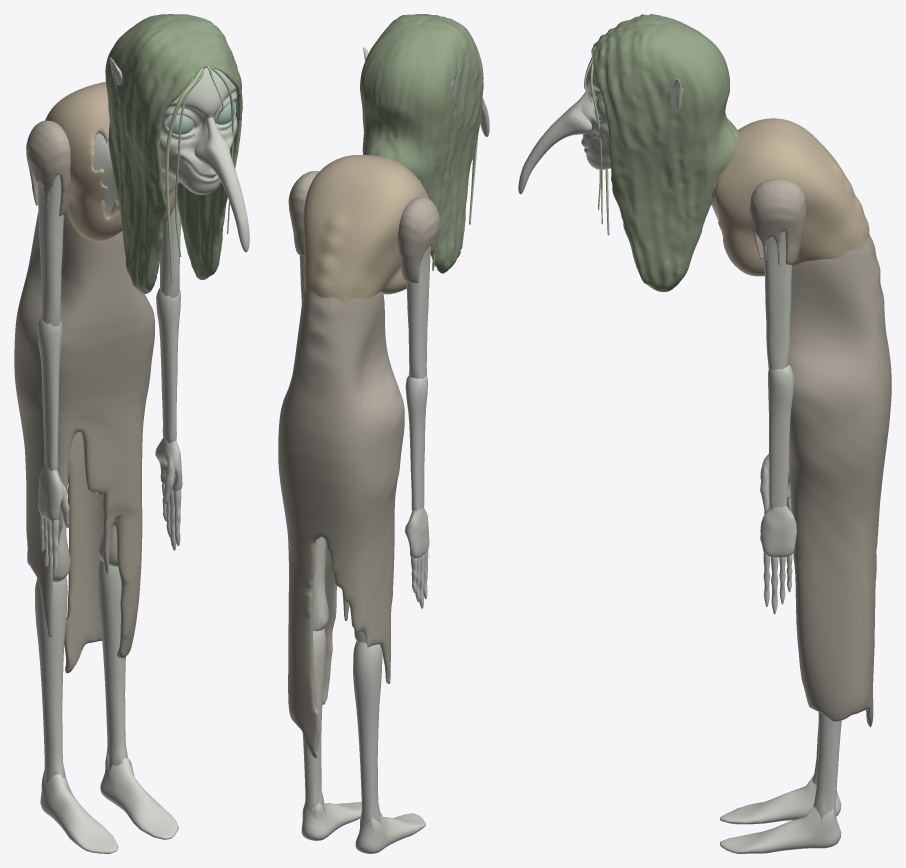
Rendered from Kikimora.glb.
3 renders of one model, left to right at view 1: azimuth 30°, elevation 25°; view 2: azimuth 150°, elevation 25°; view 3: azimuth 270°, elevation 25°, orthographic. The views are drawn at different scales.
Parts seen in each view (by area): view 1: Quad-Kugel 12, Quad-Kugel 1, Quad-Kugel (×6), Quad-Kugel 4 (×2), Quad-Kugel 22, Head, Quad-Kugel 5 (×2), Quad-Kugel 13, Quad-Kugel 6 (×2), Röhre 3, Quad-Kugel 3, Röhre 2; view 2: Quad-Kugel 12, Quad-Kugel 1, Quad-Kugel 22, Quad-Kugel 4 (×2), Quad-Kugel (×3), Quad-Kugel 13 (×2), Quad-Kugel 5, Quad-Kugel 3, Quad-Kugel 6; view 3: Quad-Kugel 12, Quad-Kugel 1, Quad-Kugel 22, Quad-Kugel (×4), Quad-Kugel 13, Quad-Kugel 5, Quad-Kugel 4, Head, Quad-Kugel 6.
Part boxes in pixels (<box>): Quad-Kugel 12: <box>14,210,154,673</box>; Quad-Kugel 1: <box>105,14,242,293</box>; Quad-Kugel (×6): <box>37,117,249,853</box>; Quad-Kugel 4 (×2): <box>35,559,127,787</box>; Quad-Kugel 22: <box>45,81,175,241</box>; Head: <box>109,57,237,194</box>; Quad-Kugel 5 (×2): <box>37,288,180,470</box>; Quad-Kugel 13: <box>26,120,71,216</box>; Quad-Kugel 6 (×2): <box>38,438,182,521</box>; Röhre 3: <box>165,68,203,281</box>; Quad-Kugel 3: <box>53,466,70,581</box>; Röhre 2: <box>175,69,204,256</box>; Quad-Kugel 12: <box>278,286,404,758</box>; Quad-Kugel 1: <box>360,14,483,273</box>; Quad-Kugel 22: <box>303,155,428,302</box>; Quad-Kugel 4 (×2): <box>302,628,382,829</box>; Quad-Kugel (×3): <box>301,246,431,853</box>; Quad-Kugel 13 (×2): <box>288,171,440,283</box>; Quad-Kugel 5: <box>405,375,427,511</box>; Quad-Kugel 3: <box>312,537,328,631</box>; Quad-Kugel 6: <box>404,507,429,558</box>; Quad-Kugel 12: <box>788,234,891,727</box>; Quad-Kugel 1: <box>593,14,740,292</box>; Quad-Kugel 22: <box>714,118,869,276</box>; Quad-Kugel (×4): <box>518,91,841,853</box>; Quad-Kugel 13: <box>749,178,806,264</box>; Quad-Kugel 5: <box>768,364,794,508</box>; Quad-Kugel 4: <box>813,712,841,823</box>; Head: <box>581,55,683,169</box>; Quad-Kugel 6: <box>760,505,796,557</box>.
Size of the model in its own units: 1.06 by 5.46 by 2.28.
